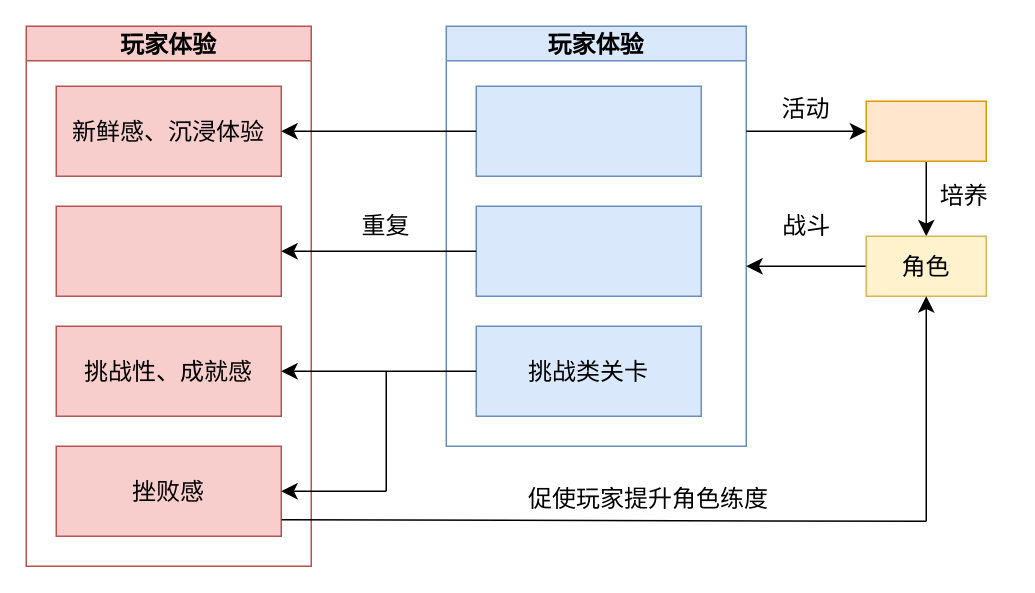
Image size: 1035x593. Some labels were removed from this diagram. Here are the shapes that lost their labels. From the top down, the centre of each, then its label:
At point (588, 130): "剧情类关卡".
At point (925, 130): "资源".
At point (168, 250): "枯燥、缺乏挑战".
At point (588, 250): "资源类关卡".
